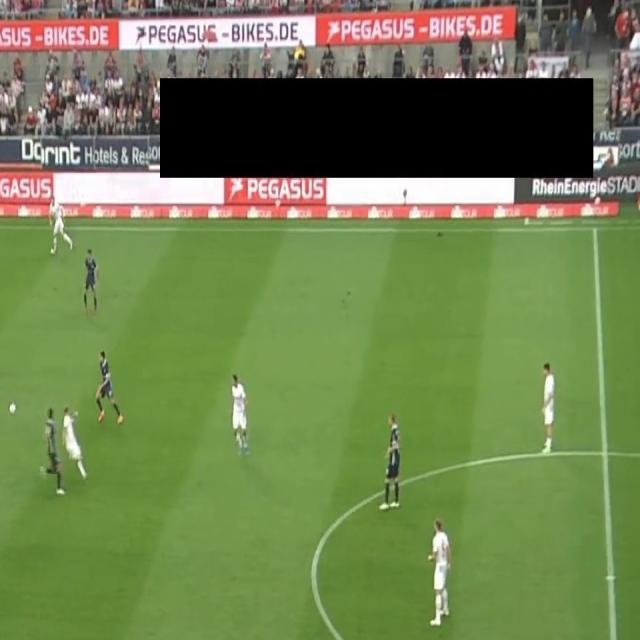ball: (8, 400, 16, 415)
